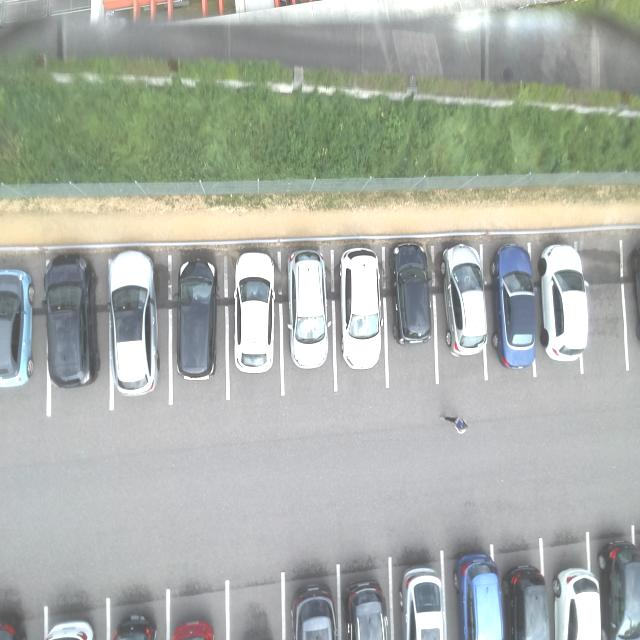car: (41, 252, 103, 394), (106, 250, 162, 402), (540, 242, 593, 367), (491, 246, 541, 371), (338, 246, 385, 371), (439, 244, 489, 360), (232, 251, 278, 376), (286, 250, 331, 375), (389, 242, 436, 350)
free_space: (574, 238, 632, 377)
